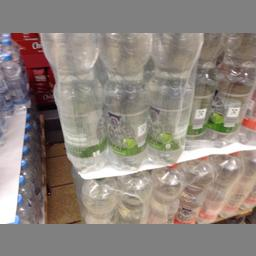water: (39, 32, 106, 170), (95, 32, 153, 170), (148, 32, 204, 161), (202, 32, 255, 147)
